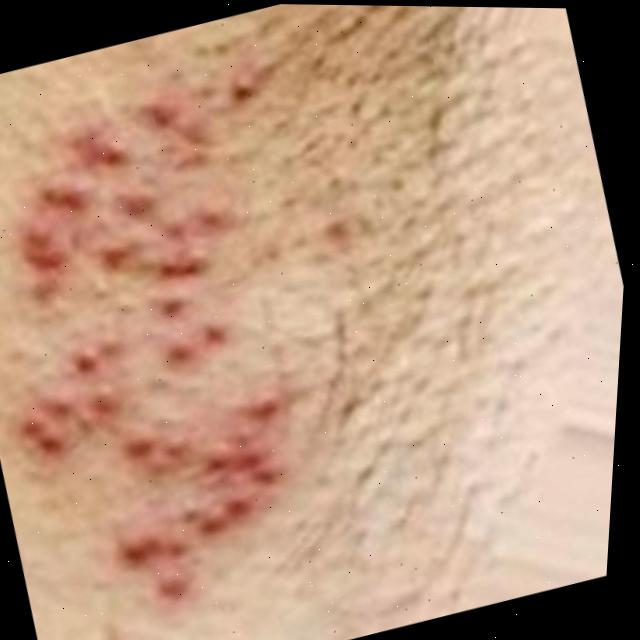Shingles: (0, 51, 358, 614)
